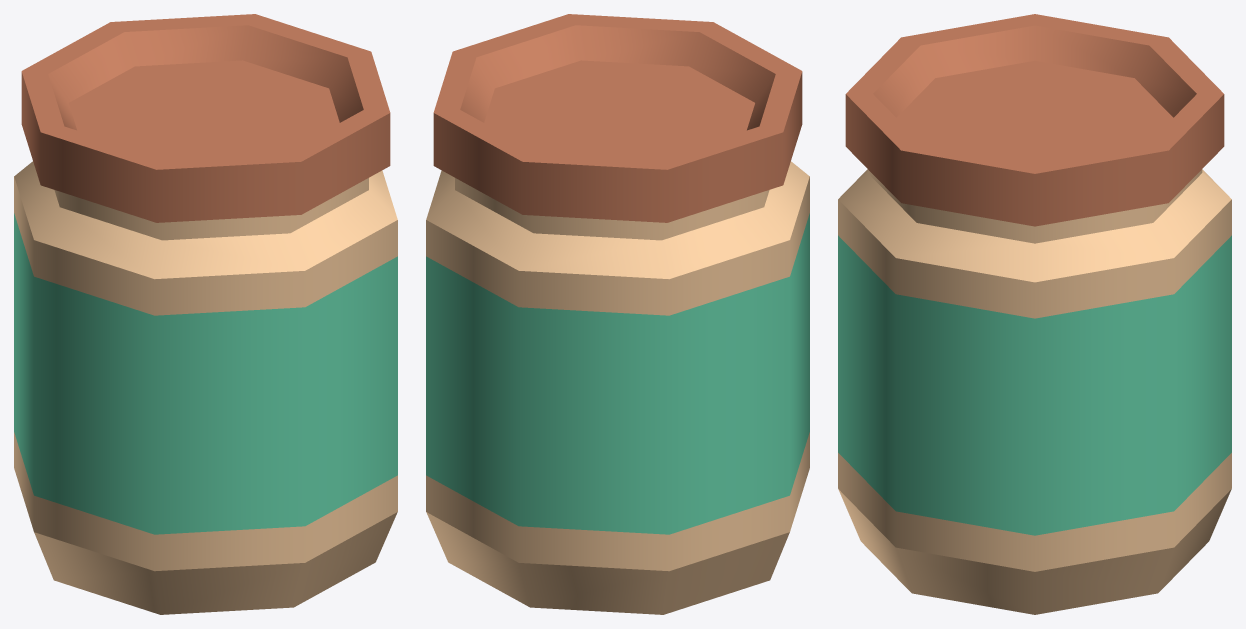
File: peanutButter.obj
3 renders of one model, left to right at view 1: azimuth 30°, elevation 25°; view 2: azimuth 150°, elevation 25°; view 3: azimuth 270°, elevation 25°, orthographic.
Visible parts, largest first — view 1: peanutButter; view 2: peanutButter; view 3: peanutButter.
Part boxes in pixels (box(x1,y1,x2,y2)): peanutButter: box(14, 14, 397, 614); peanutButter: box(426, 14, 809, 614); peanutButter: box(838, 14, 1231, 614).
Size of the model in its own units: 0.2359 by 0.2958 by 0.2359.
